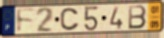2: (35, 7, 55, 34)
4: (109, 5, 125, 30)
5: (83, 6, 100, 32)
B: (128, 4, 148, 30)
C: (59, 7, 81, 32)
F: (15, 8, 36, 34)
